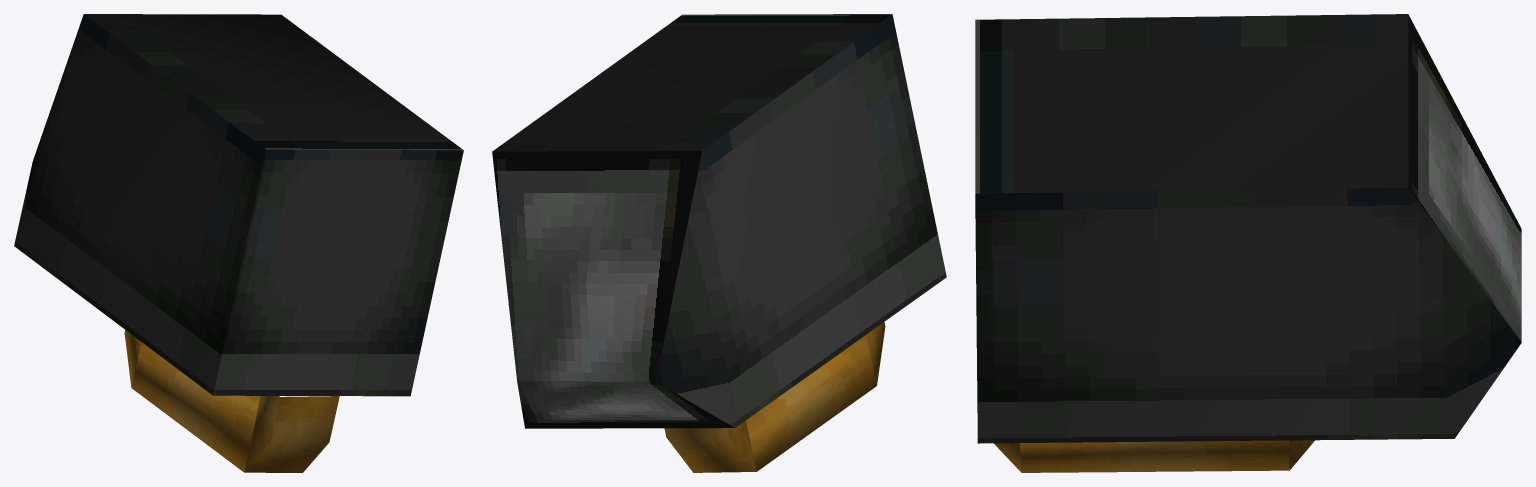
Rendered from GeigerCounter.glb.
3 views of the same model, side by side, from view 1: azimuth 30°, elevation 25°; view 2: azimuth 150°, elevation 25°; view 3: azimuth 270°, elevation 25° (orthographic). The views are drawn at different scales.
Visible parts, largest first — view 1: GEIGERCOUNTER; view 2: GEIGERCOUNTER; view 3: GEIGERCOUNTER.
Boxes of the visible parts, <box> form: GEIGERCOUNTER: <box>14,14,463,472</box>; GEIGERCOUNTER: <box>492,14,946,472</box>; GEIGERCOUNTER: <box>975,14,1521,472</box>.
Bounding box in the file's own units: 0.134 × 0.182 × 0.212.
1 material, 1 textured.
